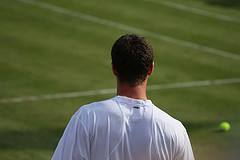tennis ball: (218, 120, 230, 132)
